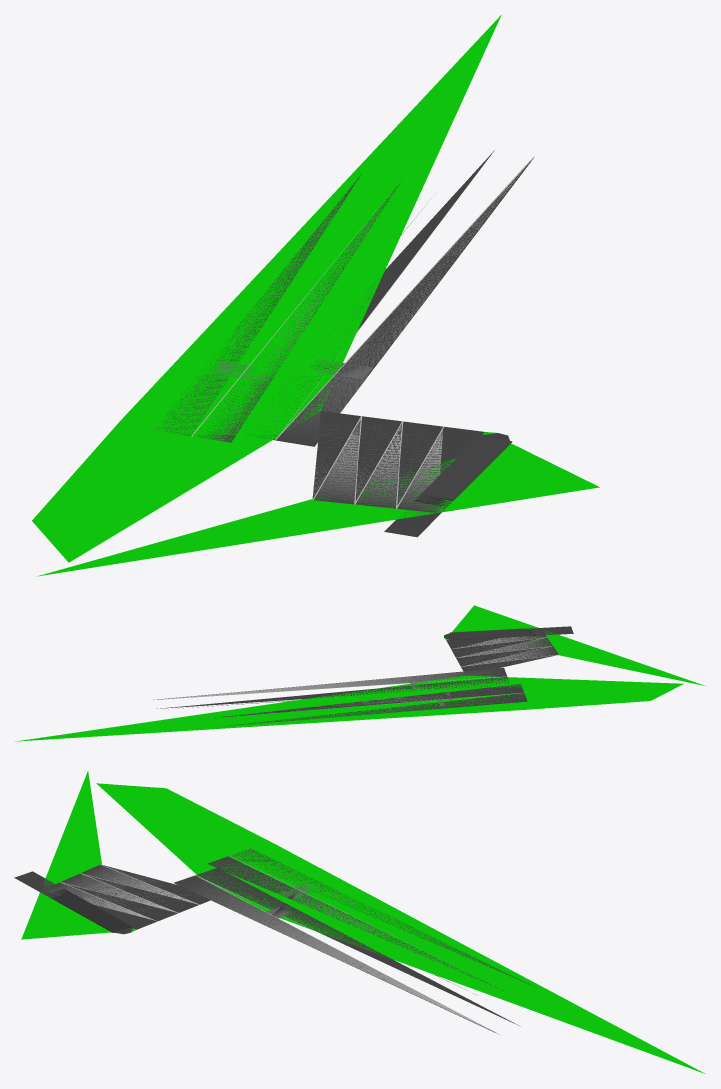
The picture shows the model from 3 angles, top to bottom: view 1: azimuth 30°, elevation 25°; view 2: azimuth 150°, elevation 25°; view 3: azimuth 270°, elevation 25°; orthographic projection. The views are drawn at different scales.
Bounding box in the file's own units: 89.62 × 0.3 × 86.28.
